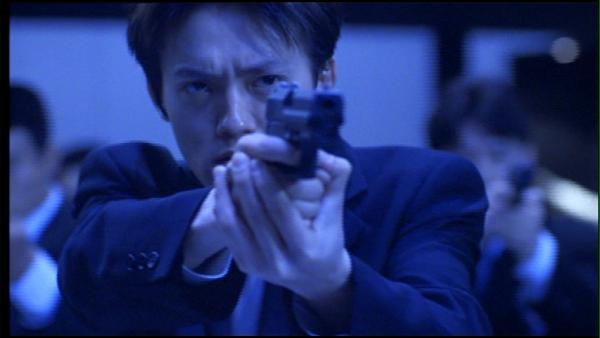Gun: (262, 81, 348, 166)
